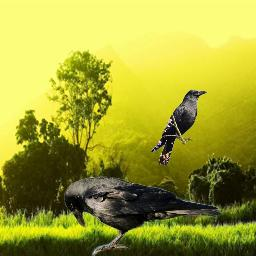Crow: (64, 176, 223, 256), (151, 89, 207, 165)
